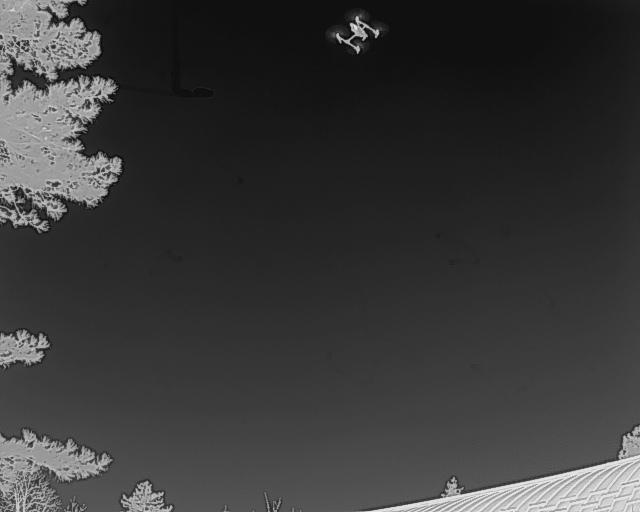drone: (318, 0, 399, 70)
